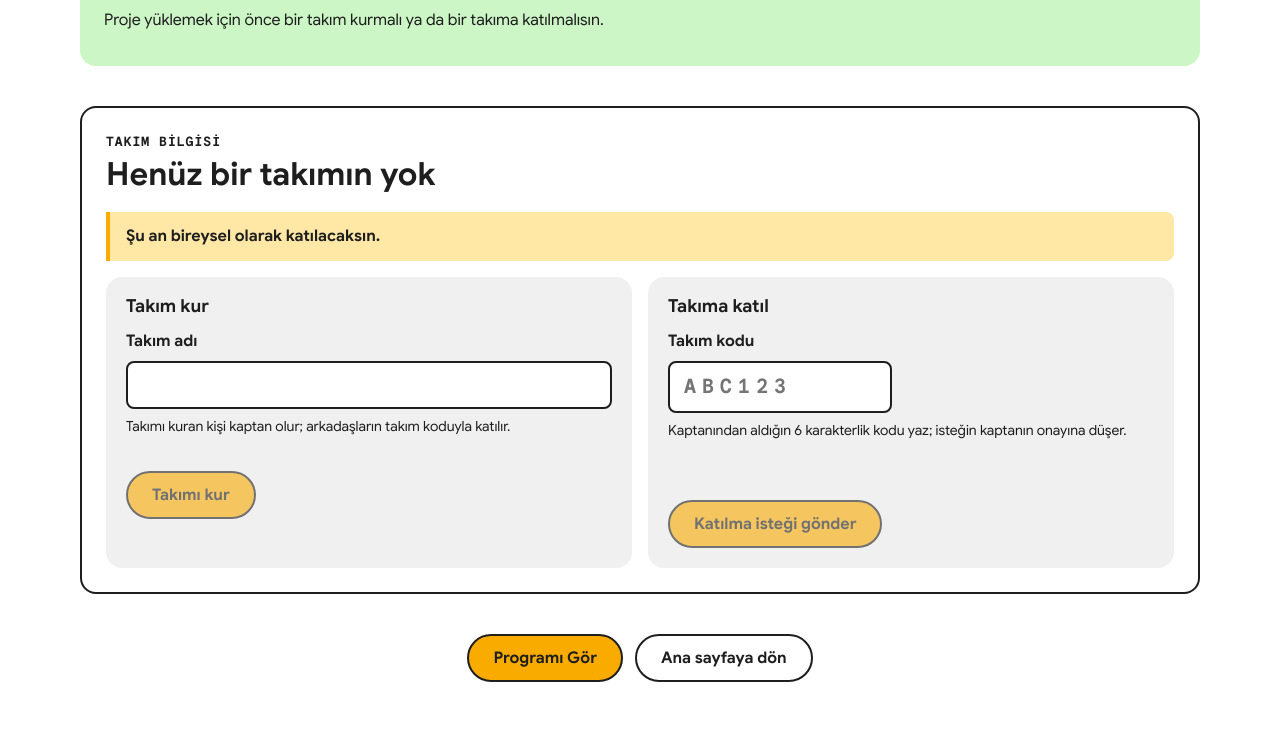
Test: Başvurum sayfası › takımı olmayan kişi sayfadan takım kurabilir ve kaptan olur
(page scrolled)
Expected: the heading "Takım kur" is shown, left=126, top=297, right=209, bottom=317
Expected: the heading "Takıma katıl" is shown, left=668, top=297, right=769, bottom=317
Type "Y" into the field labelled "Takım adı" at (369, 385), box left=126, top=361, right=612, bottom=409
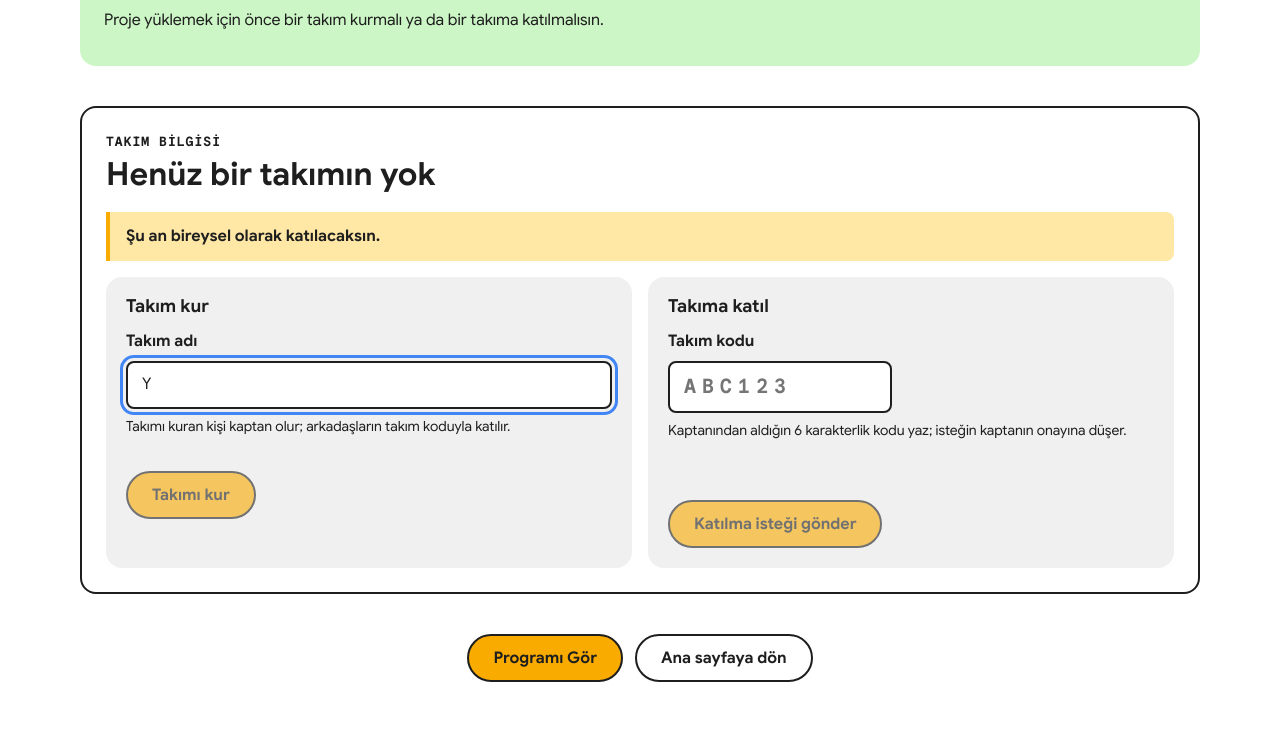
Expected: the button "Takımı kur" is disabled, left=126, top=471, right=256, bottom=519
Type "eni   Ekip " into the field labelled "Takım adı" at (369, 385), box left=126, top=361, right=612, bottom=409
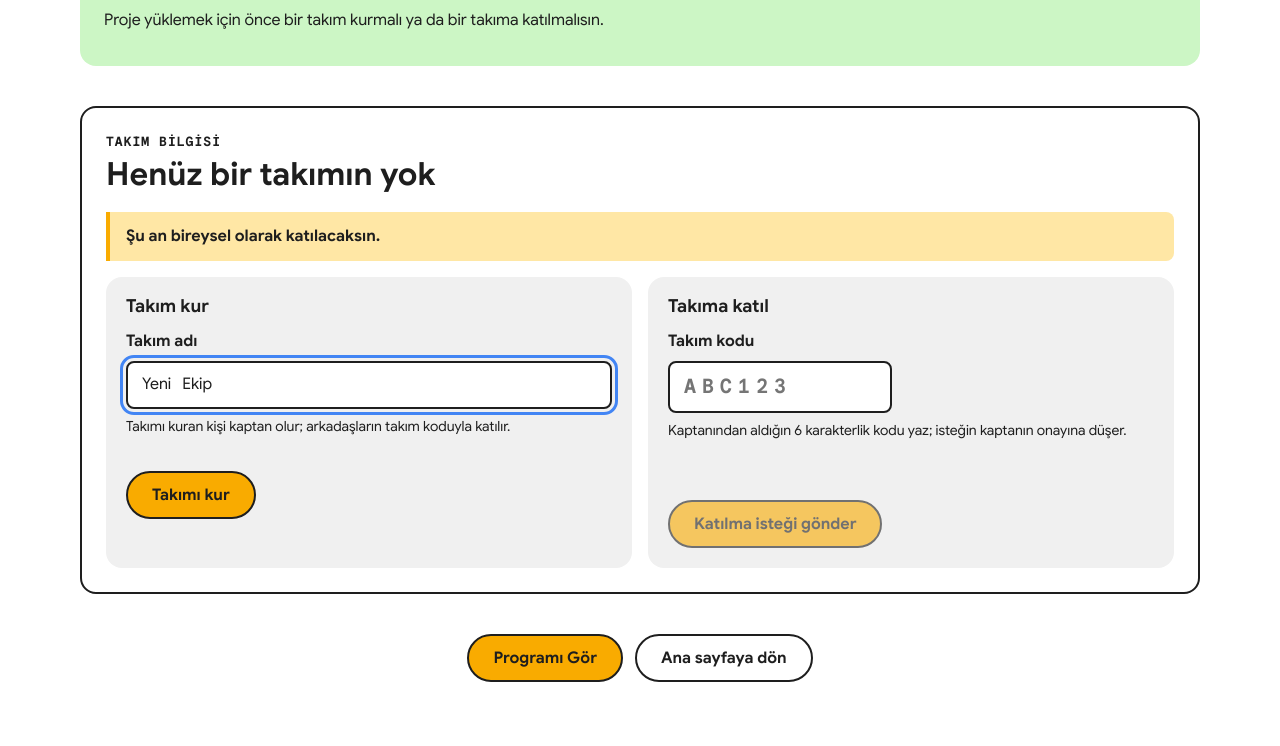
Click the button "Takımı kur" at (191, 495), box left=126, top=471, right=256, bottom=519
(page scrolled)
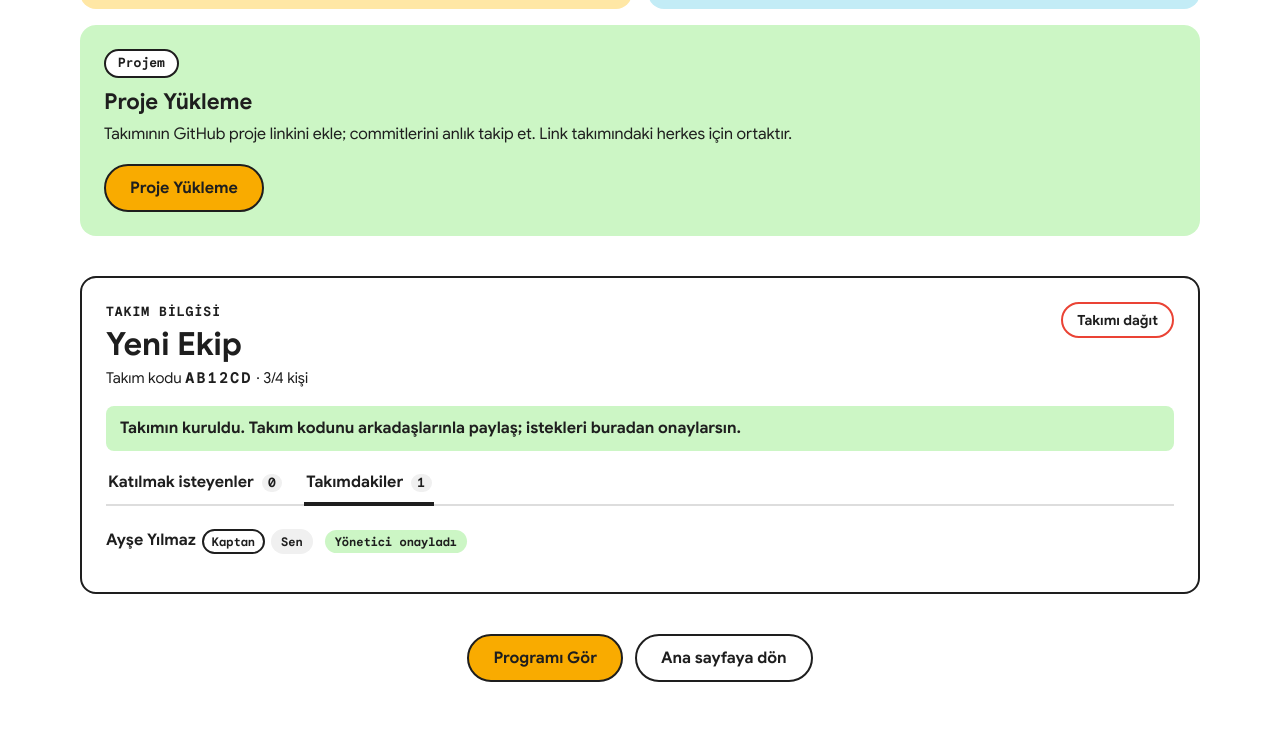
Now the heading "Yeni Ekip" is shown, box left=106, top=324, right=242, bottom=364
Now the text "Takımın kuruldu" is shown, box left=120, top=418, right=741, bottom=438
Now the text "Şu an bireysel olarak katılacaksın." is gone
